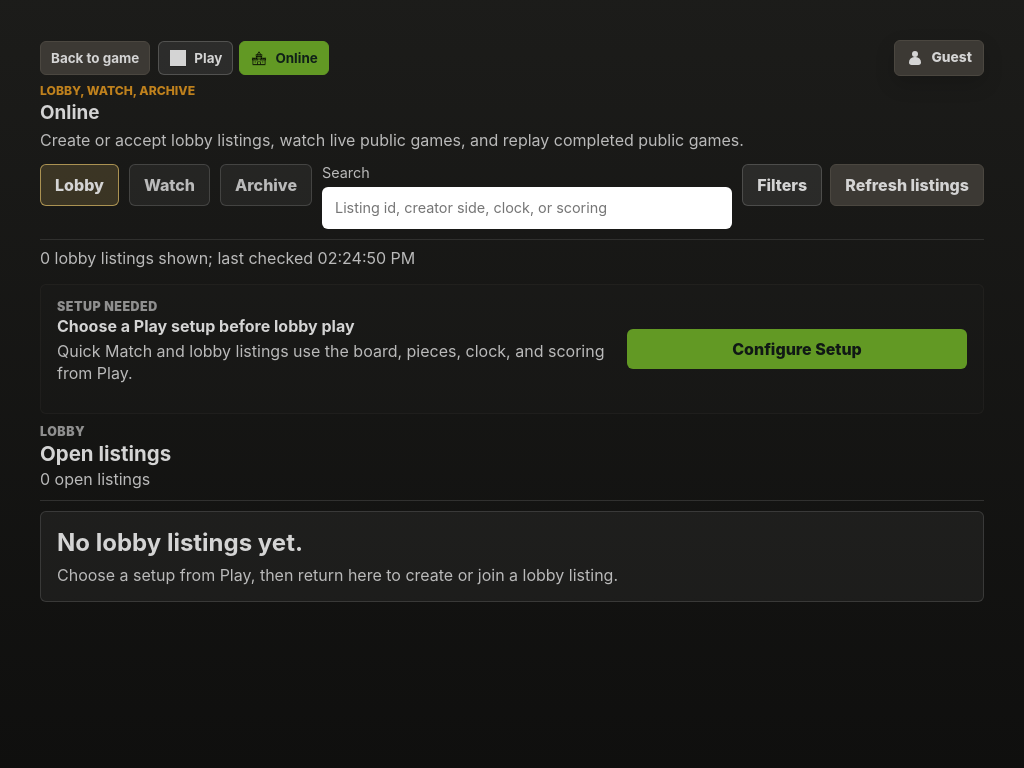
Scenario: OnlineGameBrowser › signs into an online account from the Online account dialog
The width and height of the screenshot is (1024, 768).
Expected: the heading "No lobby listings yet." is shown, [57, 528, 303, 557]
Click the button named "Guest account. Open account sign in" at (939, 58), box [894, 40, 984, 76]
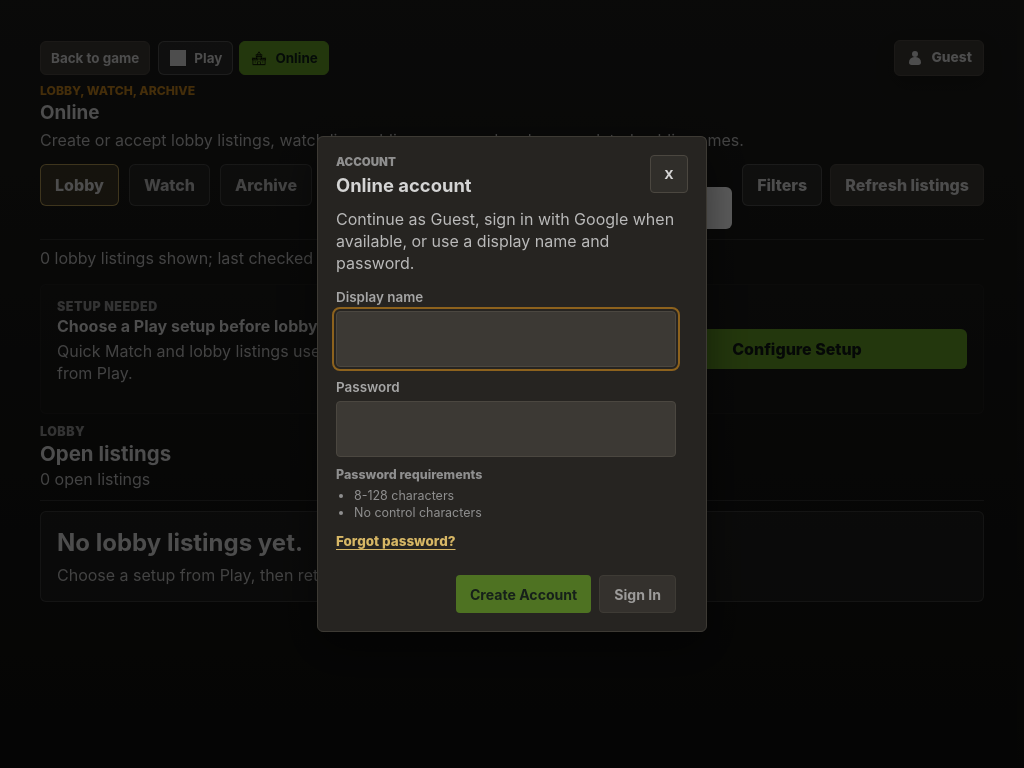
Type "Liam" into the field labelled "Display name" at (506, 339), box [336, 311, 676, 367]
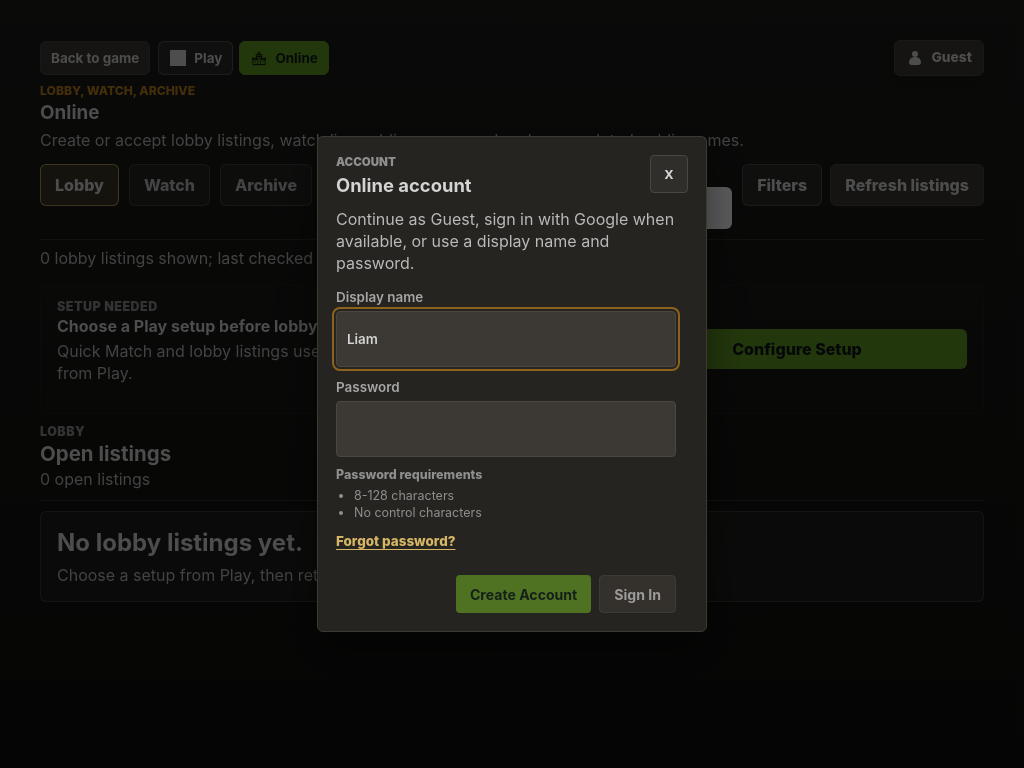
Type "account-password" into the password field labelled "Password" at (506, 429), box [336, 401, 676, 457]
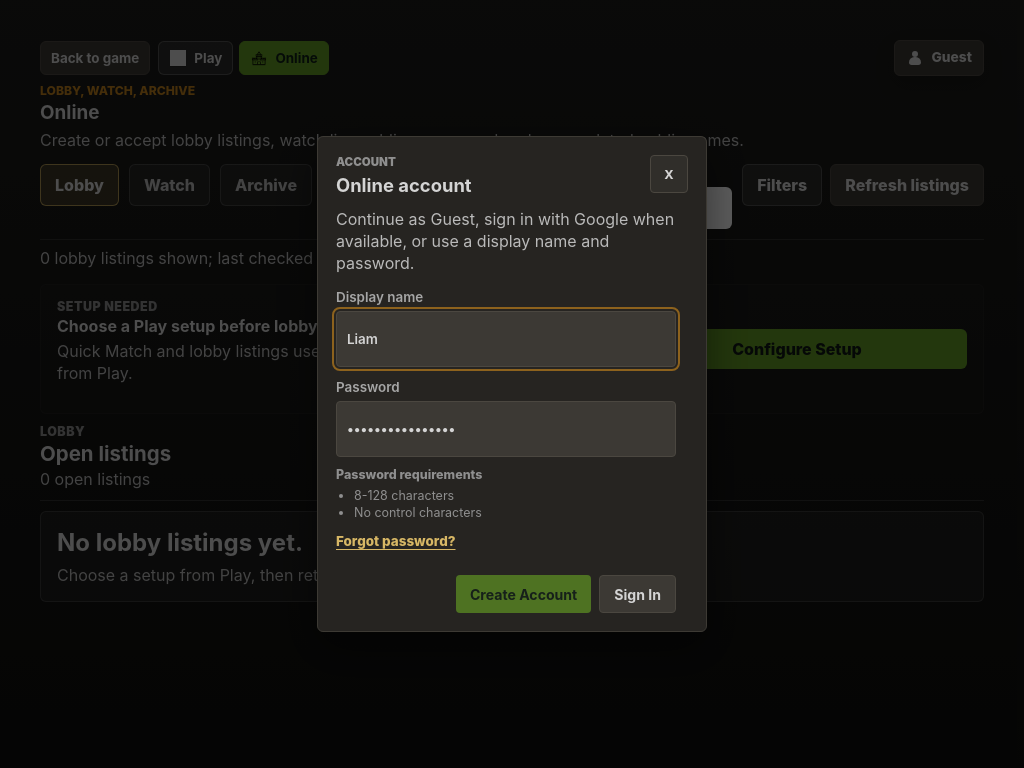
Click the button "Sign In" at (638, 594), box [599, 575, 676, 613]
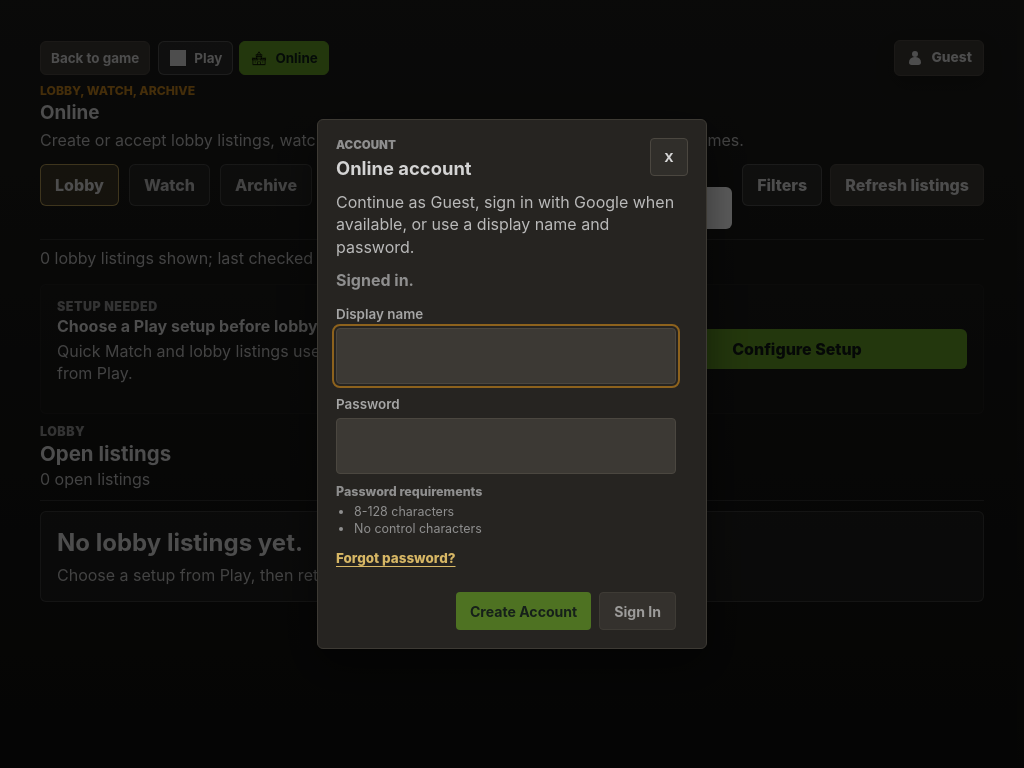
Now the text "Signed in." is shown, box [336, 270, 414, 290]
